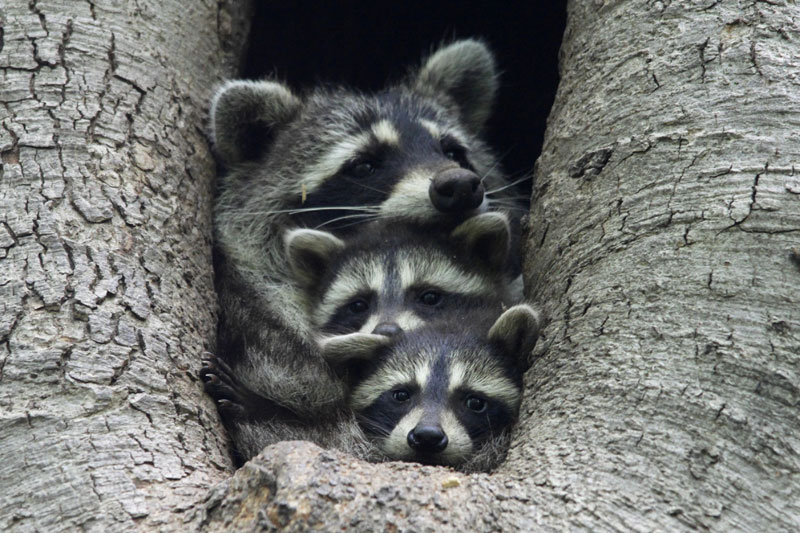raccoon: (185, 31, 545, 227), (326, 319, 564, 490)
